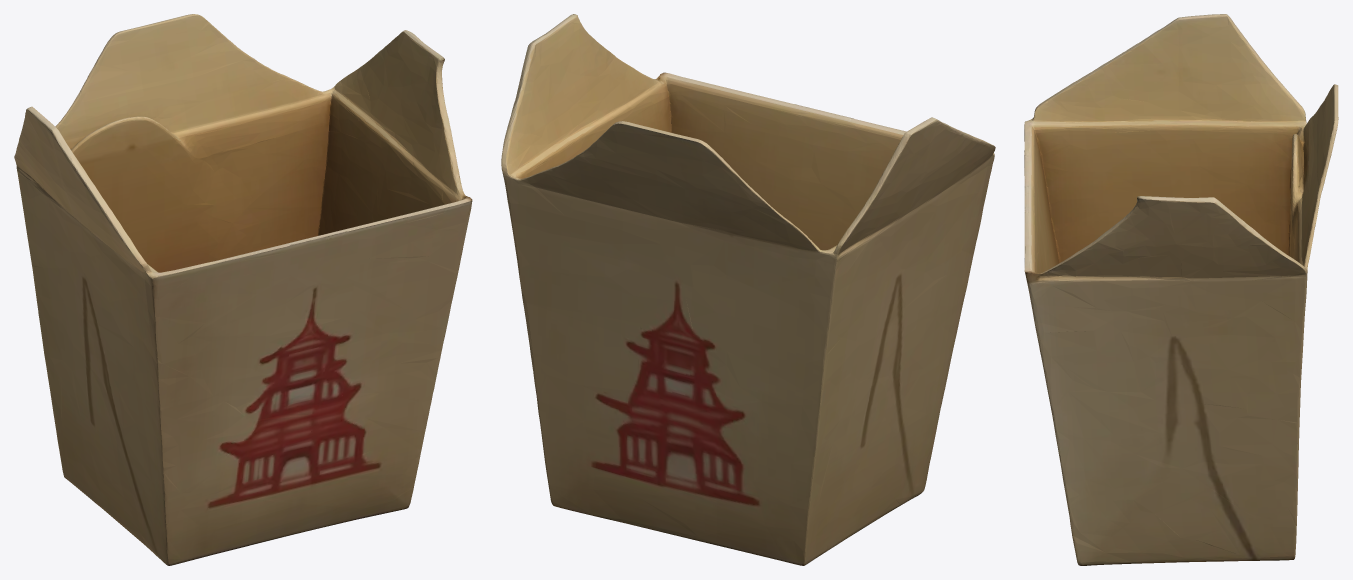
The model's file is tables_nesting_round_marble.glb.
3 views of the same model, side by side, from view 1: azimuth 30°, elevation 25°; view 2: azimuth 150°, elevation 25°; view 3: azimuth 270°, elevation 25° (orthographic). The views are drawn at different scales.
Visible parts, largest first — view 1: geometry_0; view 2: geometry_0; view 3: geometry_0.
Boxes of the visible parts, x1,y1,x2,y2 form: geometry_0: (14, 14, 472, 565); geometry_0: (501, 14, 995, 565); geometry_0: (1024, 14, 1338, 565).
Size of the model in its own units: 0.9349 by 0.9951 by 0.6931.
Materials: 1 (1 with a texture image).
